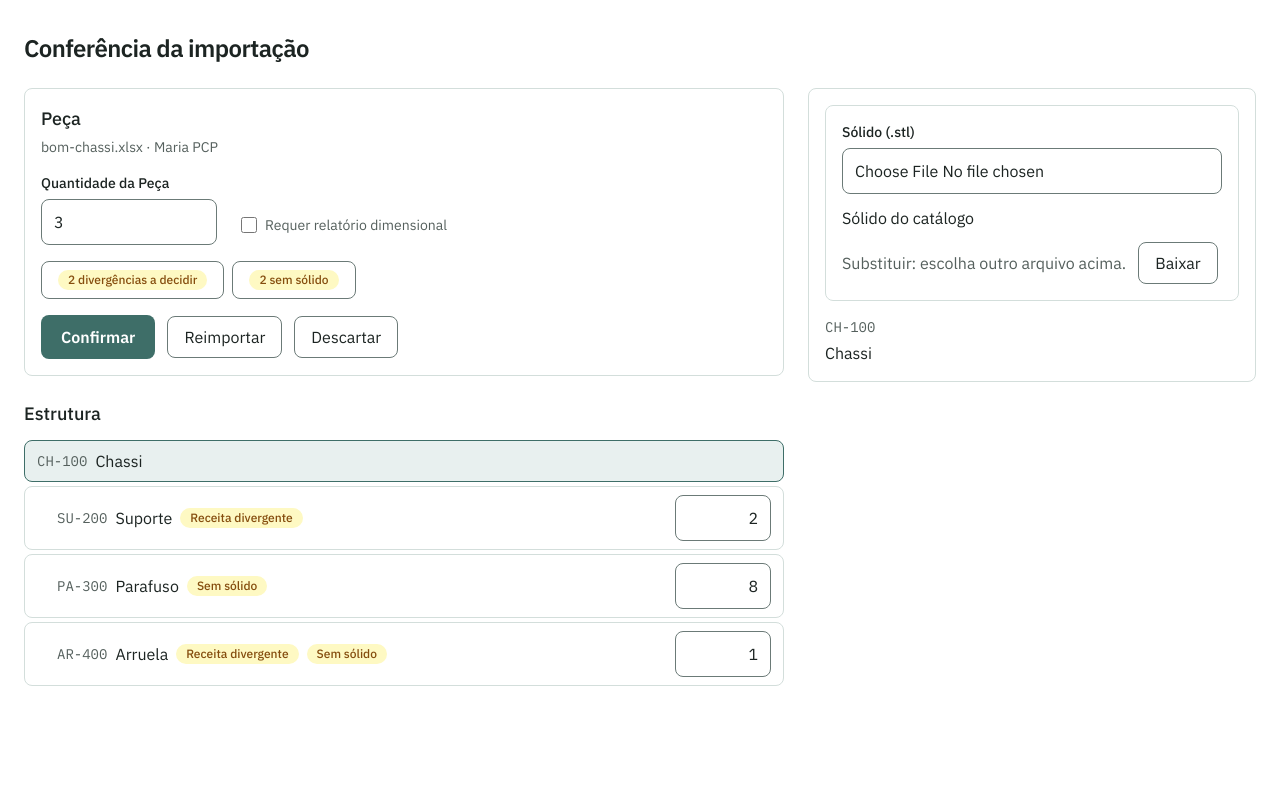
Scenario: ConferenciaDeImportacaoPage › Confirmar com a versão velha rele e avisa
The image size is (1280, 800).
Click the button "Confirmar": (98,337) [41,315,155,359]
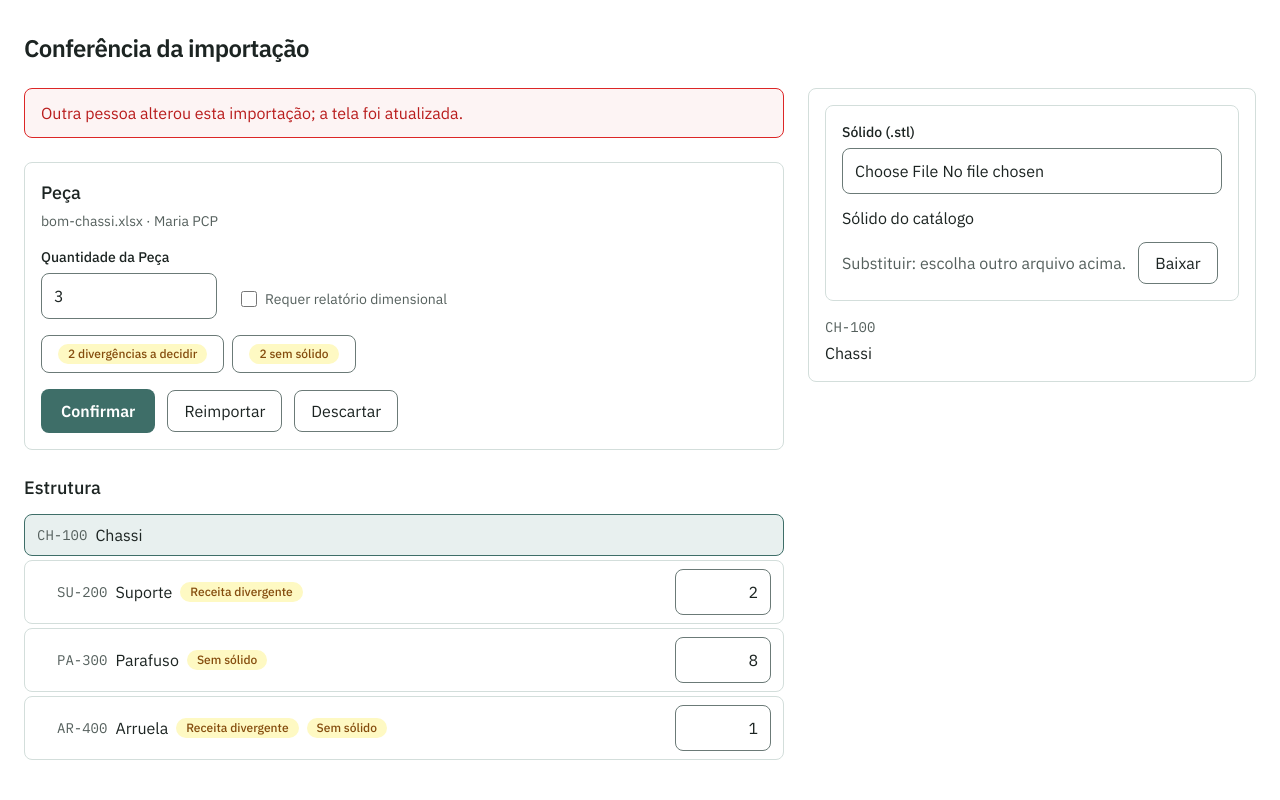
Now the message reads "Outra pessoa alterou esta importação; a tela foi atualizada.", box [41,103,463,123]
